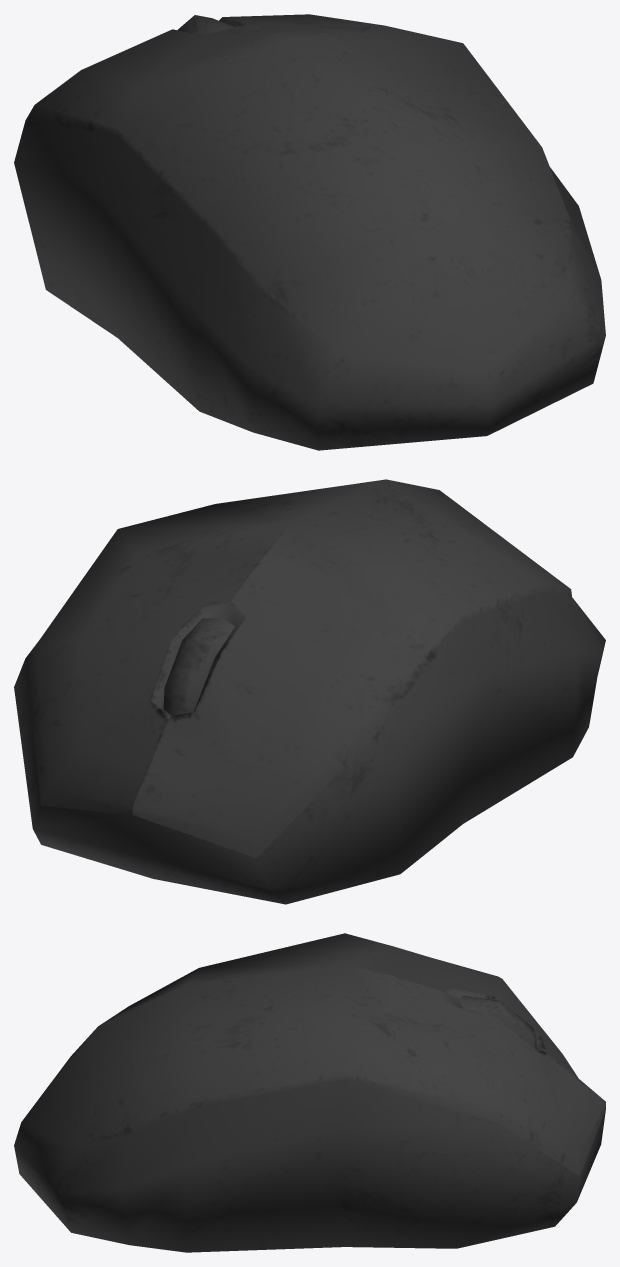
File: Mouse.glb
The picture shows the model from 3 angles, top to bottom: view 1: azimuth 30°, elevation 25°; view 2: azimuth 150°, elevation 25°; view 3: azimuth 270°, elevation 25°; orthographic projection. The views are drawn at different scales.
Parts seen in each view (by area): view 1: Cube; view 2: Cube; view 3: Cube.
Boxes of the visible parts, left/top/right/bottom form: Cube: left=14, top=14, right=605, bottom=450; Cube: left=14, top=479, right=605, bottom=904; Cube: left=14, top=933, right=605, bottom=1252.
Bounding box in the file's own units: 7.19 × 4.53 × 11.41.
Materials: 1 (1 with a texture image).
